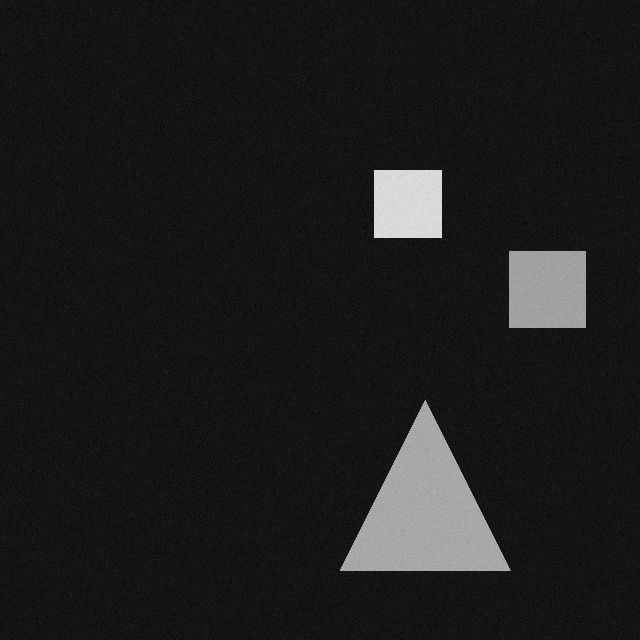square: (499, 238, 575, 314), (364, 157, 431, 224)
triangle: (330, 387, 500, 557)
